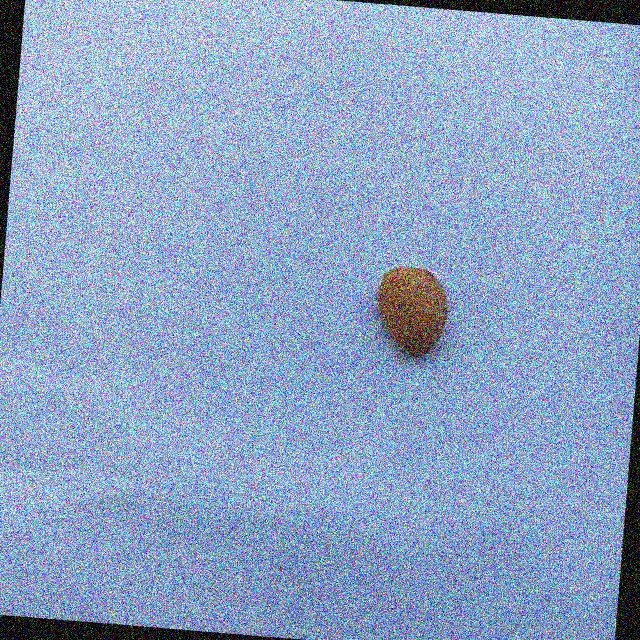grade2: (367, 261, 454, 363)
